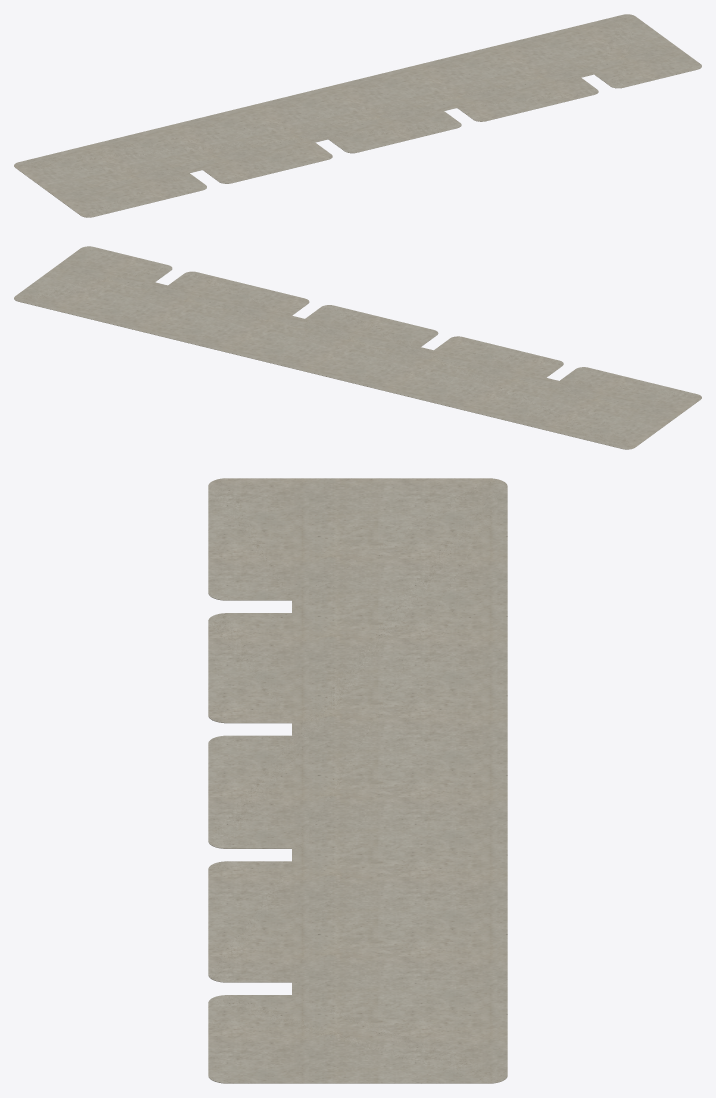
The model's file is Ground02.FBX.
3 views of the same model, one above another, from view 1: azimuth 30°, elevation 25°; view 2: azimuth 150°, elevation 25°; view 3: azimuth 270°, elevation 25° (orthographic). The views are drawn at different scales.
Parts seen in each view (by area): view 1: Object001; view 2: Object001; view 3: Object001.
Boxes of the visible parts, x1,y1,x2,y2 form: Object001: (14,14,701,217); Object001: (14,246,701,449); Object001: (208,478,507,1083).
Size of the model in its own units: 760 by 0.2 by 159.
